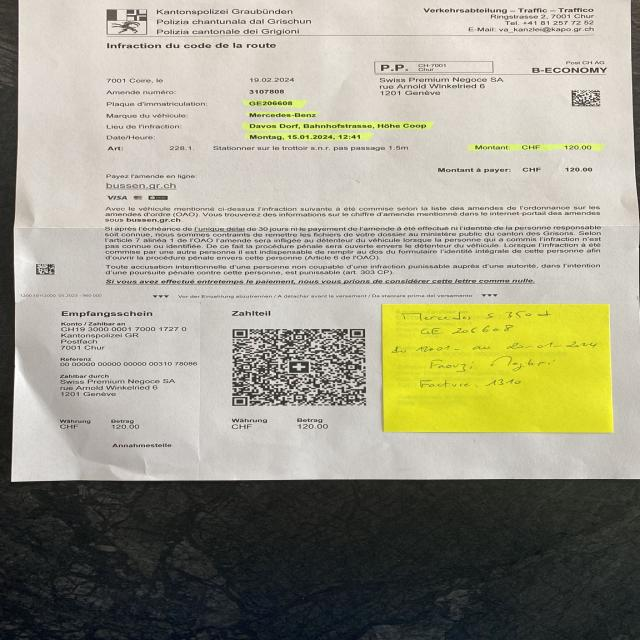paper-document-: (9, 0, 640, 482)
